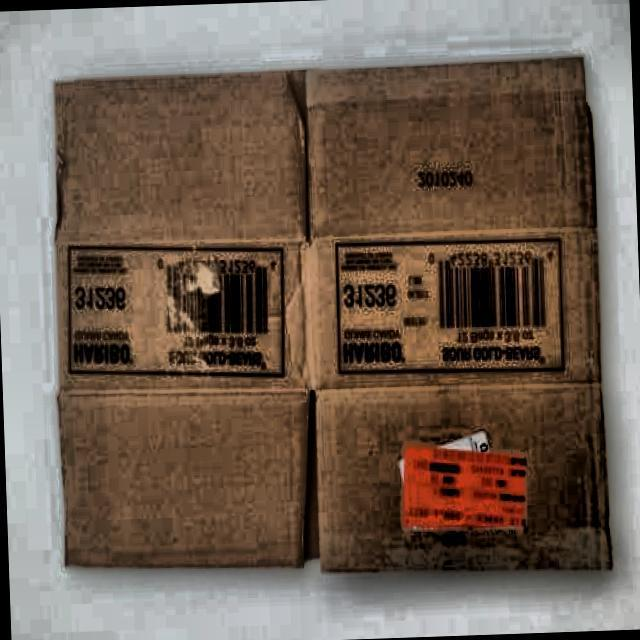cardboard: (45, 56, 612, 590)
